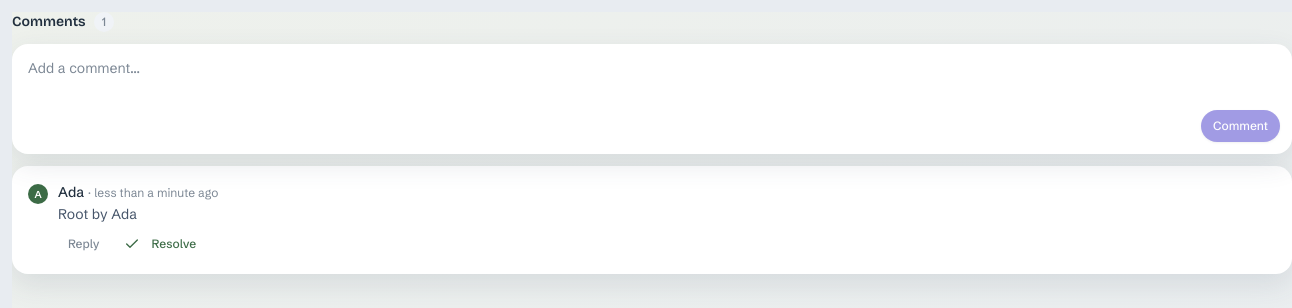
Test: CommentsSection › resolving a thread PATCHes and moves it into the resolved group
Check: the text "Root by Ada" is shown, box x1=58 y1=205 x2=137 y2=223
Click the button "Resolve".
click(160, 244)  # box x1=114 y1=230 x2=206 y2=258
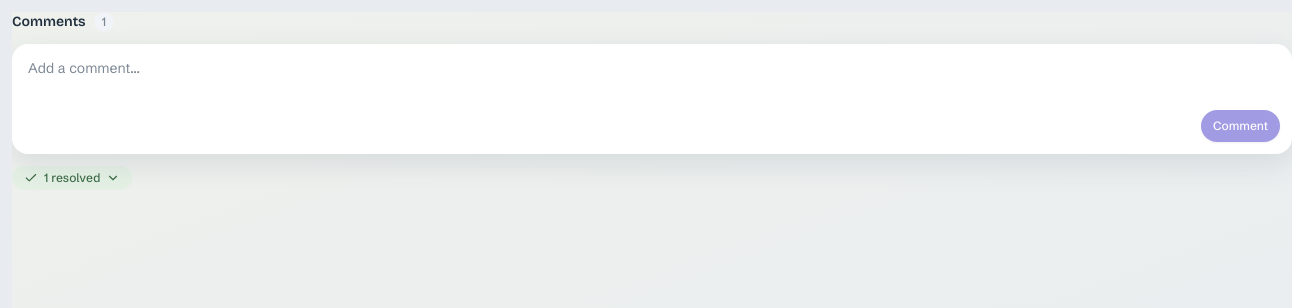
Check: the button "1 resolved" is shown, box x1=12 y1=166 x2=132 y2=190
